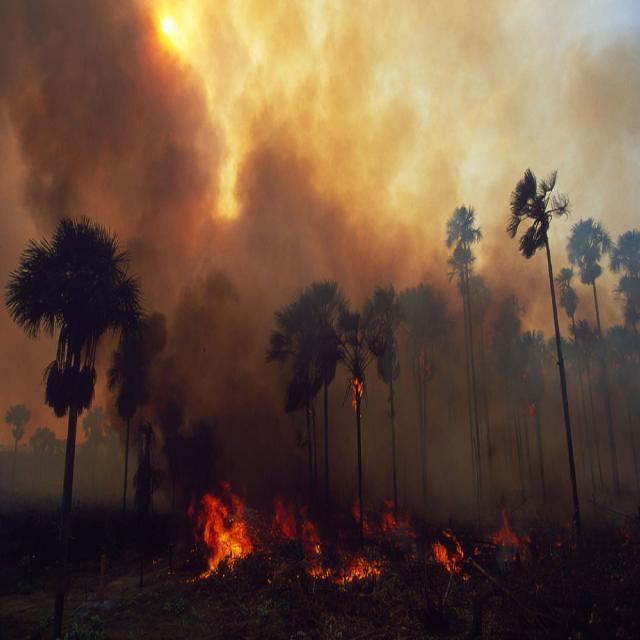Fire: (184, 482, 263, 585), (268, 494, 327, 564), (426, 522, 484, 592), (346, 496, 418, 542), (304, 554, 389, 590), (487, 502, 535, 553), (346, 367, 371, 419)
Smoke: (0, 0, 636, 554)
